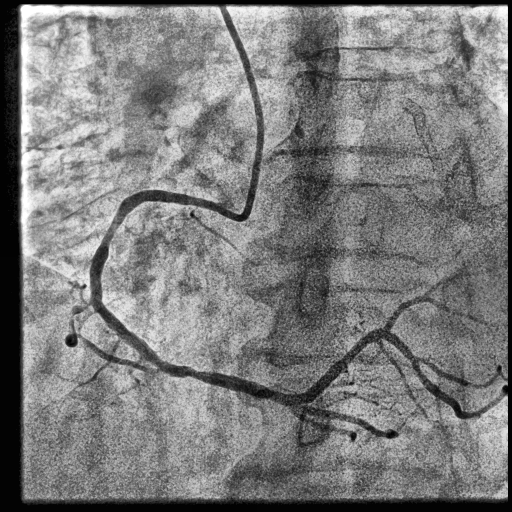pborca: (298, 329, 494, 419)
pda: (301, 405, 396, 438)
rca: (89, 190, 307, 412)
